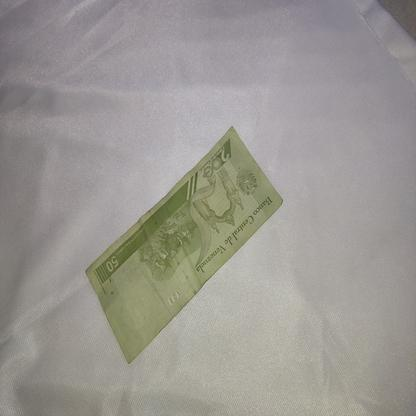vef_back: (83, 124, 282, 364)
